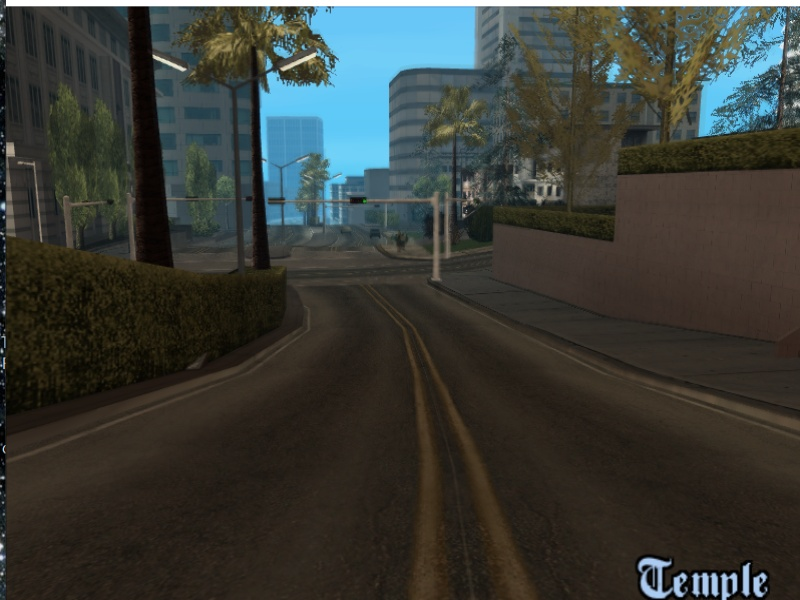pole: (226, 89, 248, 276), (428, 198, 443, 286)
